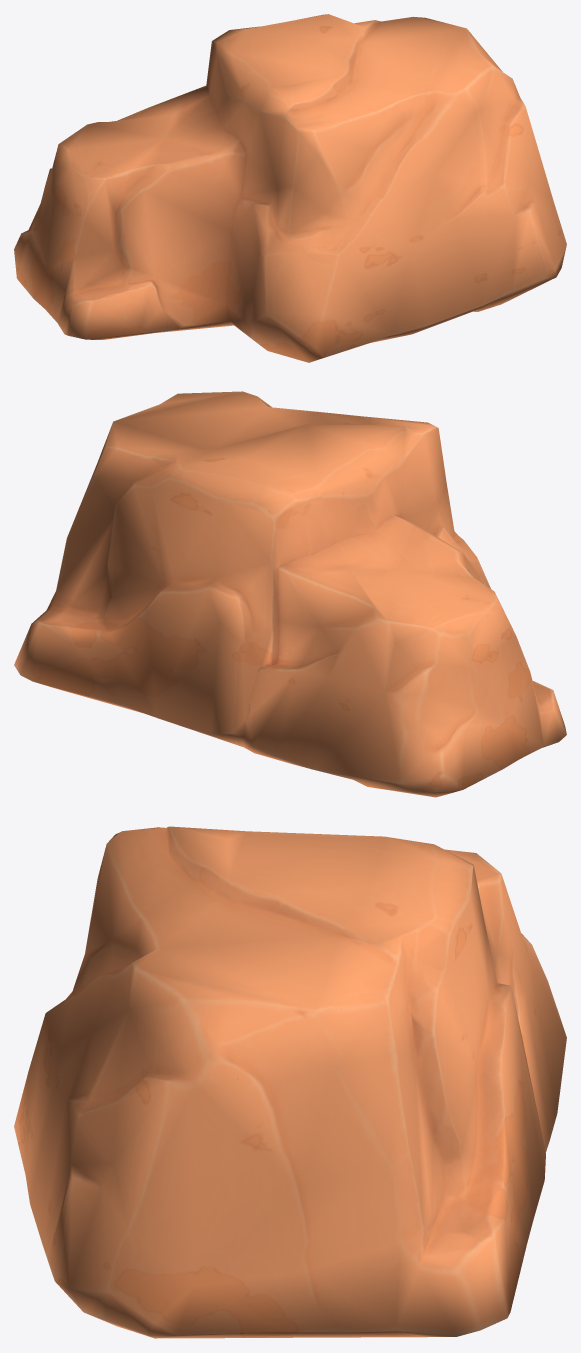
Rendered from Rock_1.fbx.
3 renders of one model, top to bottom at view 1: azimuth 30°, elevation 25°; view 2: azimuth 150°, elevation 25°; view 3: azimuth 270°, elevation 25°, orthographic. The views are drawn at different scales.
Parts seen in each view (by area): view 1: Rock_1; view 2: Rock_1; view 3: Rock_1.
Part boxes in pixels (x1,y1,x2,y2): Rock_1: (14,14,566,362); Rock_1: (14,391,566,797); Rock_1: (14,826,566,1338).
Size of the model in its own units: 276 by 131 by 196.
Materials: 1 (1 with a texture image).
